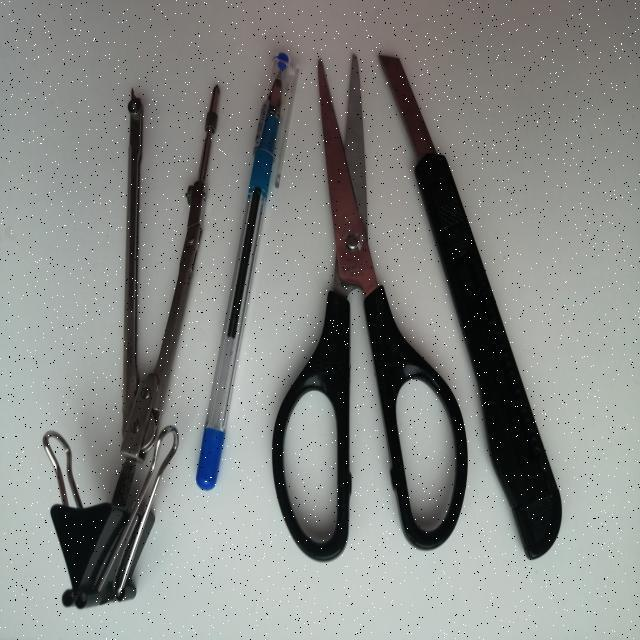scissors: (239, 25, 510, 589)
